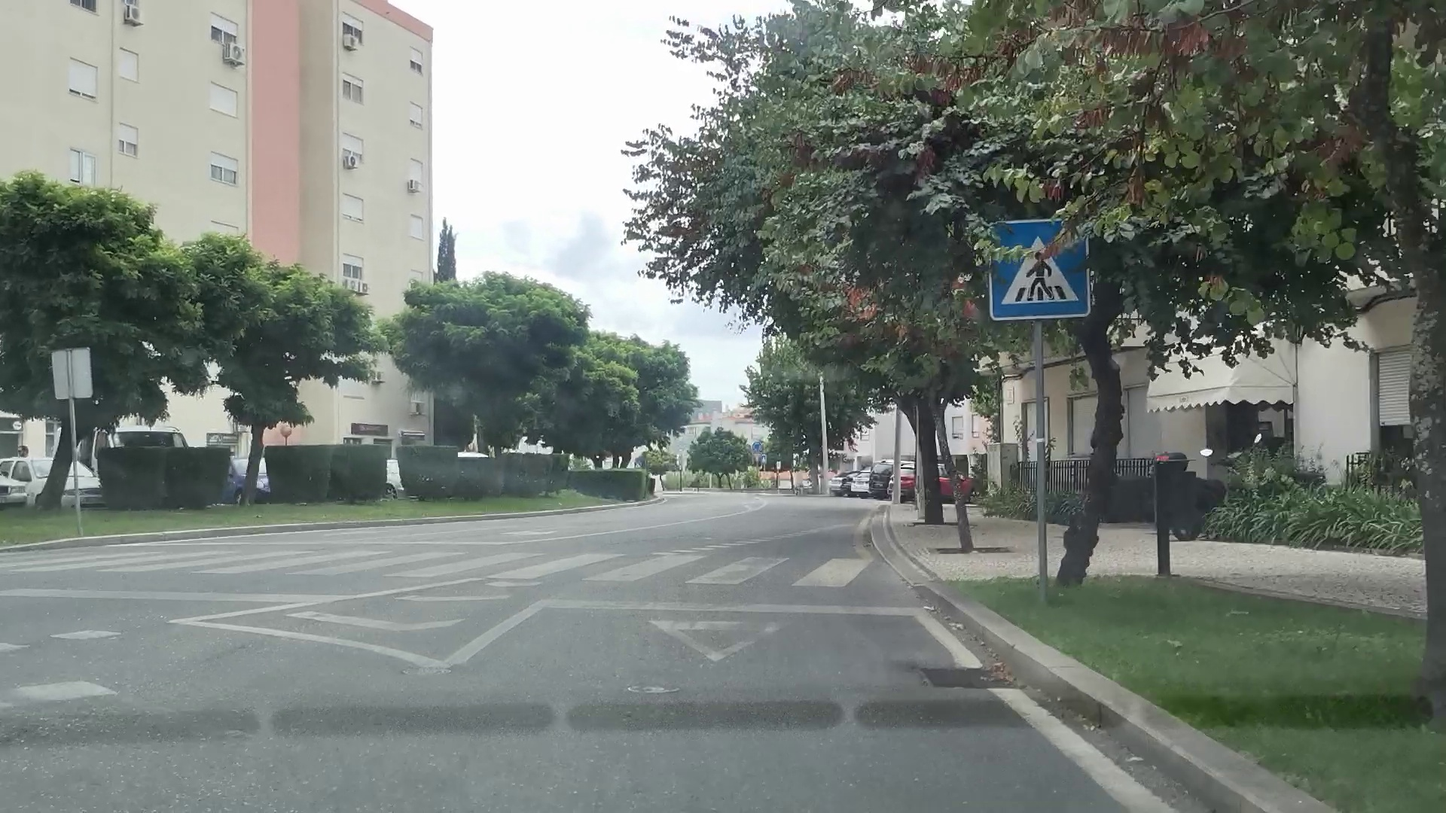Stairs: (0, 539, 870, 592)
